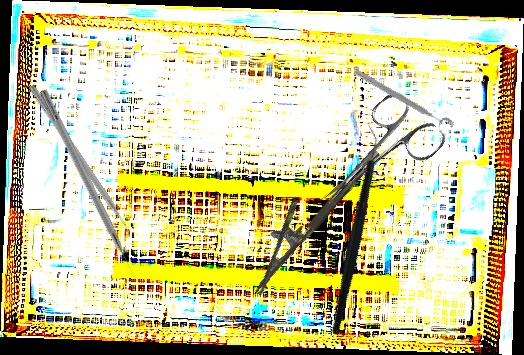Chopper: (264, 122, 442, 336), (20, 84, 136, 244)
Fixation Ring: (349, 66, 455, 138)
Hook Surgical: (37, 88, 141, 285)
Iris Scissors: (302, 85, 449, 230)
Needle Holder: (231, 131, 383, 296)
